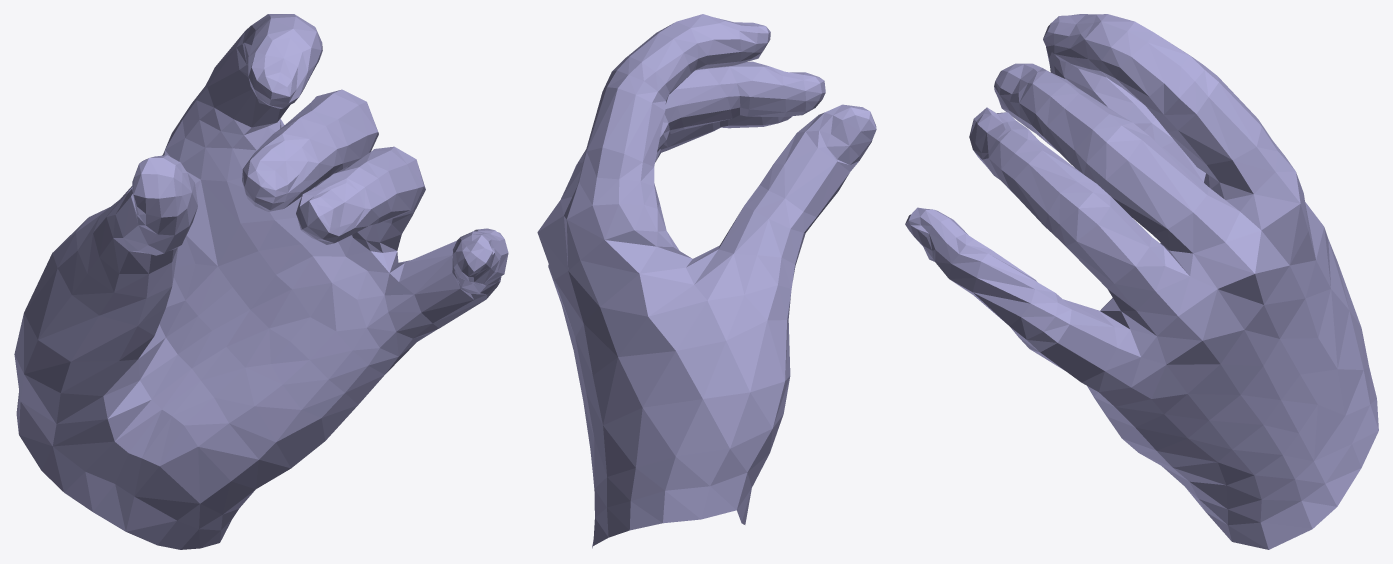
Rendered from hand_0059.glb.
3 renders of one model, left to right at view 1: azimuth 30°, elevation 25°; view 2: azimuth 150°, elevation 25°; view 3: azimuth 270°, elevation 25°, orthographic. The views are drawn at different scales.
Visible parts, largest first — view 1: world; view 2: world; view 3: world.
Boxes of the visible parts, x1,y1,x2,y2 form: world: [14, 14, 508, 549]; world: [537, 14, 876, 548]; world: [905, 14, 1378, 549].
Size of the model in its own units: 0.0995 by 0.1497 by 0.1233.
